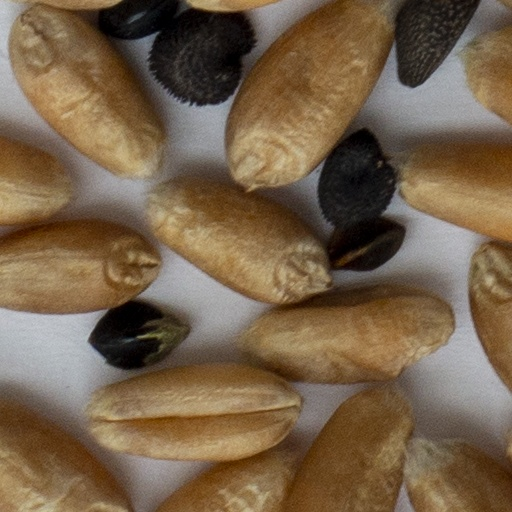Agrostemma-poly: (150, 10, 253, 104), (321, 133, 394, 228)
Convolvulus-poly: (396, 0, 479, 86)
Fallopia-Convolvulus-poly: (89, 301, 187, 368), (330, 219, 403, 269), (99, 0, 172, 39)
